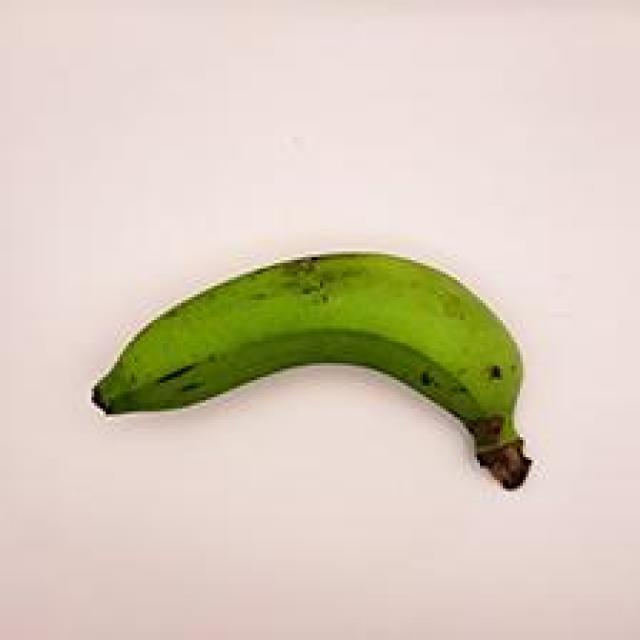Raw: (70, 212, 553, 518)
